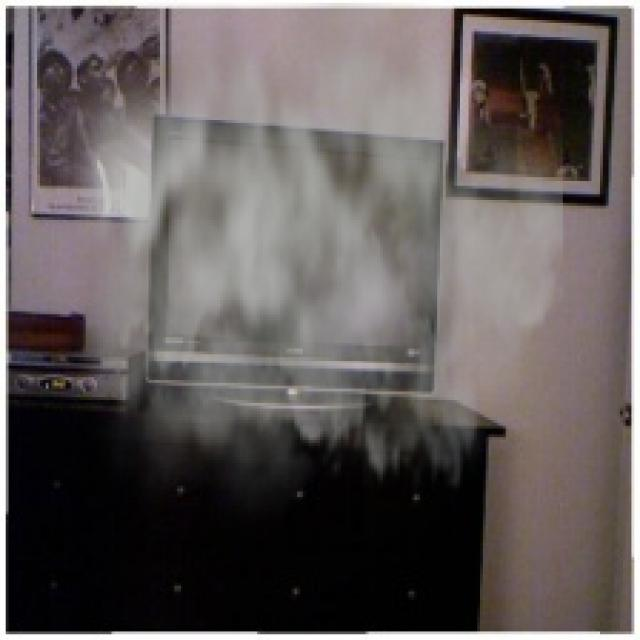smoke: (43, 3, 563, 540)
